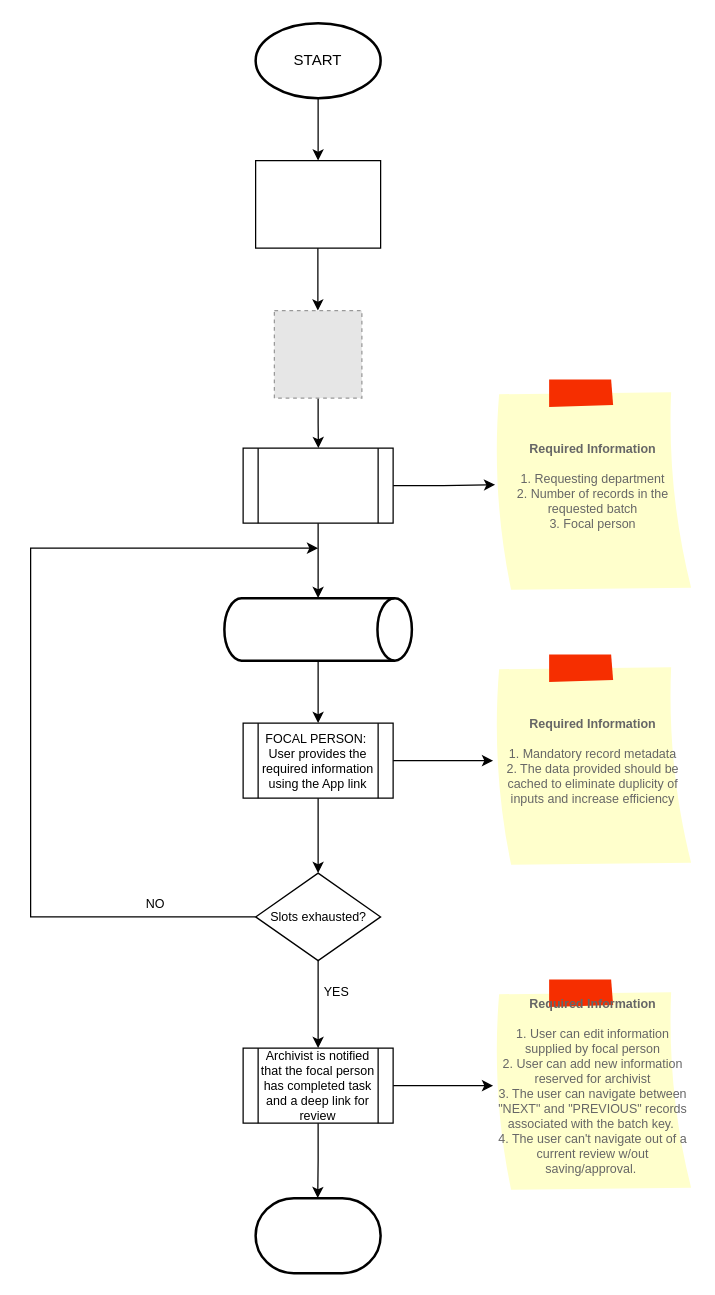
This 715x1295 diagram has some shape labels left out. Grey dashed boxes stand in for pictures. The centre of each missing label's shape, as x and y in pixels:
An unused slot and data associated to the deep link is retrieved in App: point (317, 628)
Archivist generates record number batch and emails a deep link to focal person: point (317, 485)
Archivist receives a request to archive records: point (317, 203)
END: point (317, 1235)
